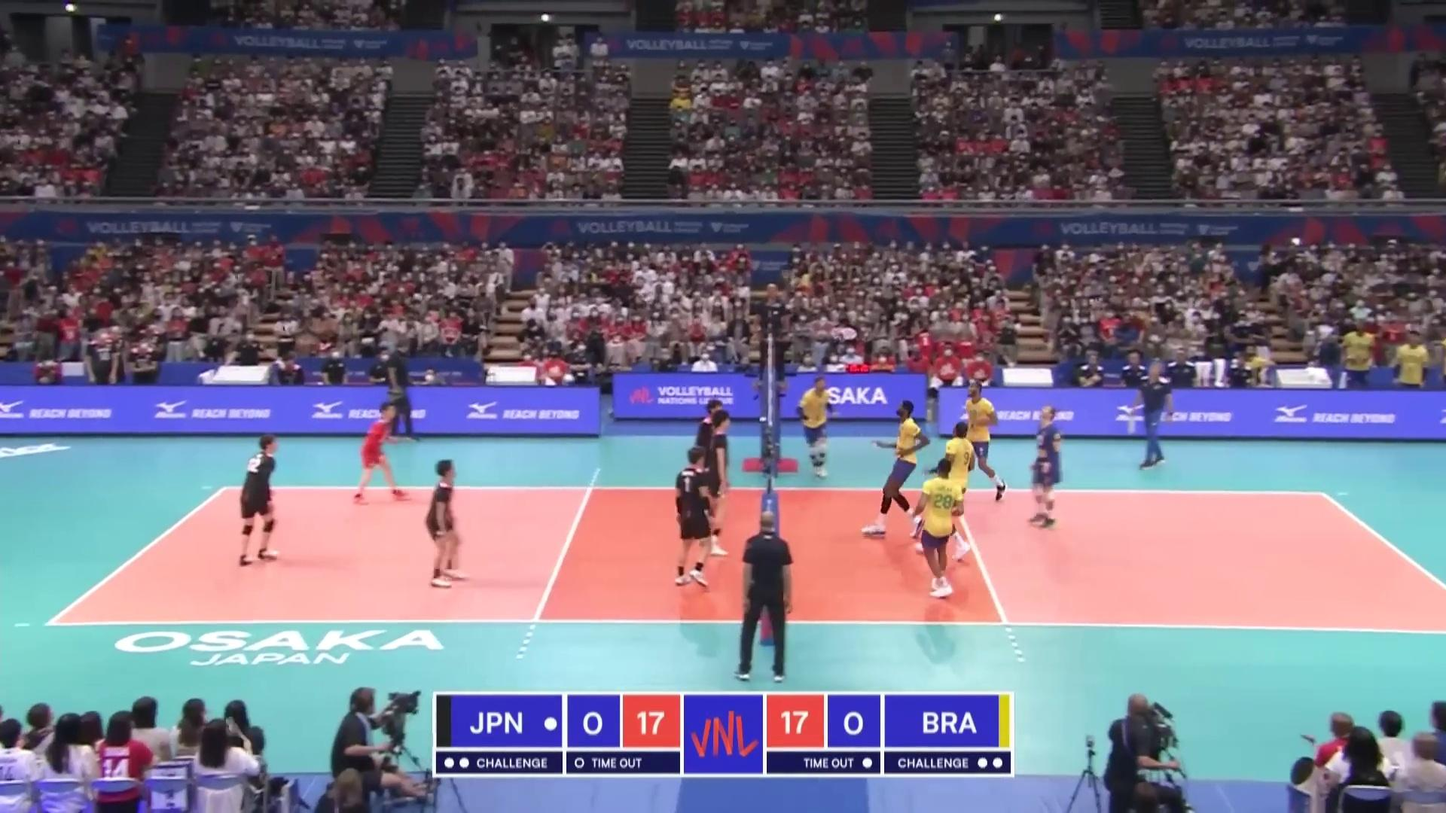player: (861, 399, 924, 536), (916, 422, 975, 560), (914, 459, 967, 606), (426, 458, 474, 589), (953, 380, 1005, 500), (235, 435, 281, 566), (675, 448, 713, 591), (351, 405, 404, 503), (1029, 405, 1065, 526), (693, 399, 725, 526), (797, 377, 836, 480), (708, 411, 733, 558)
refree: (739, 512, 794, 681), (756, 283, 788, 390)
